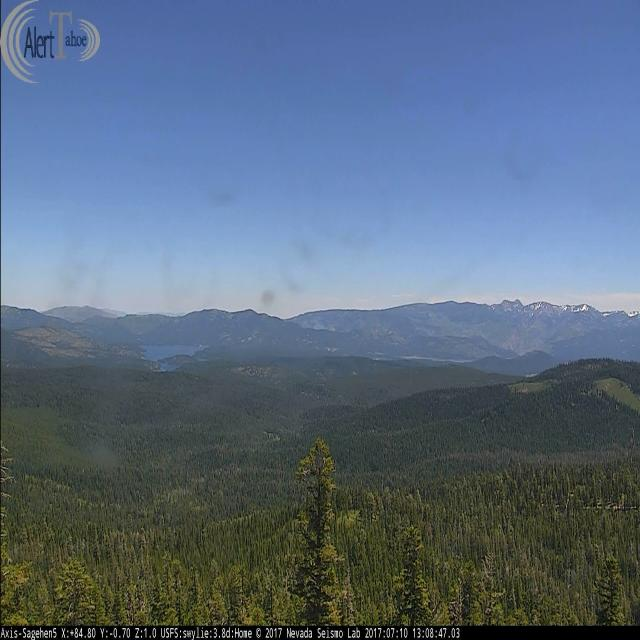smoke: (313, 322, 326, 329)
